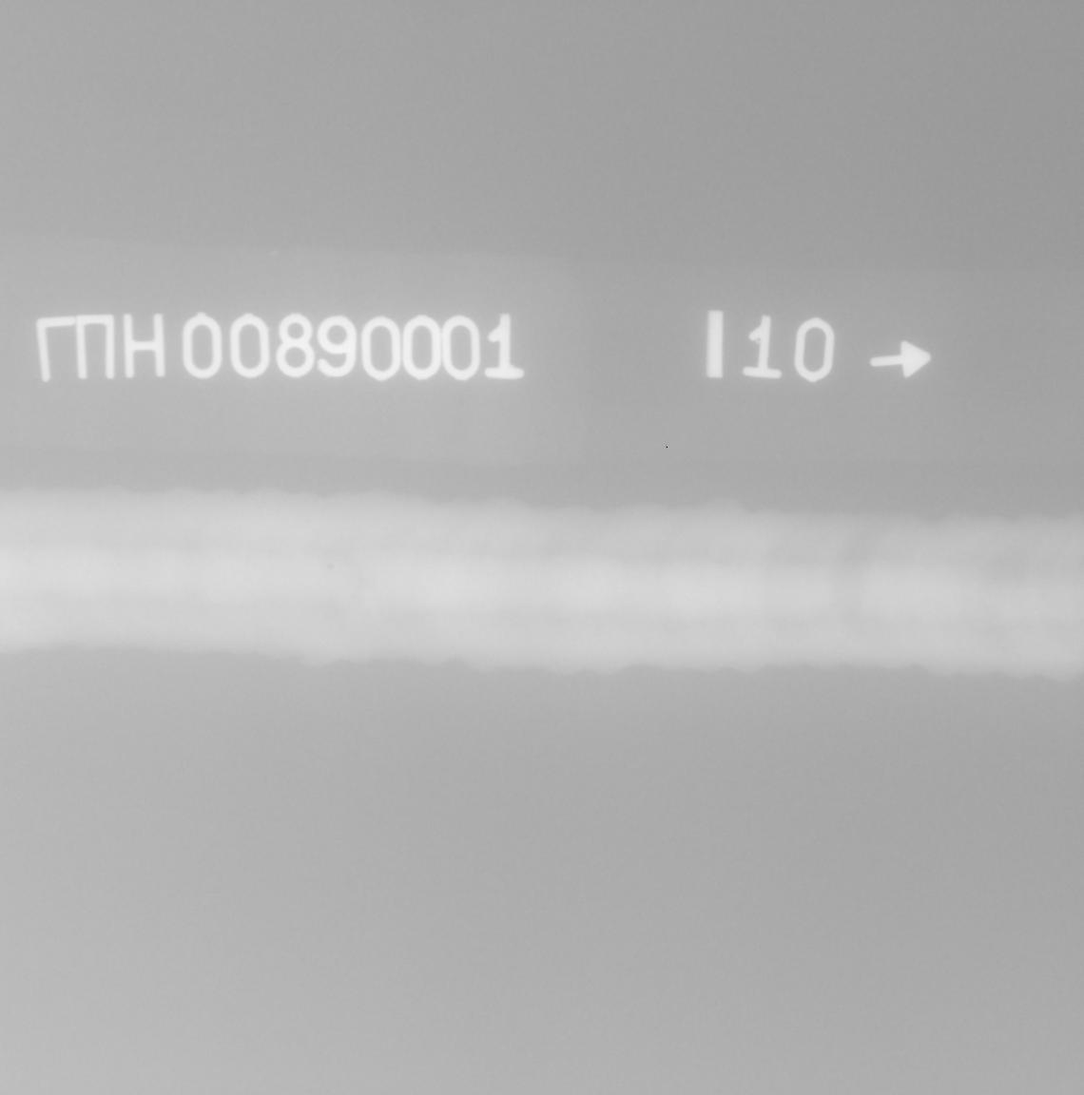Pore/Porosity: (328, 563, 333, 569), (26, 559, 31, 563), (29, 571, 33, 575), (87, 570, 90, 574), (88, 562, 92, 565), (623, 561, 626, 565), (59, 569, 62, 572)
